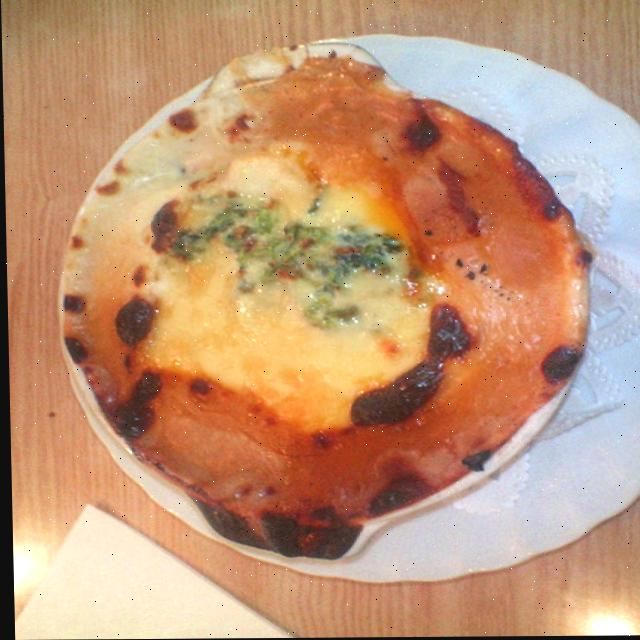米饭主食: (58, 29, 557, 546)
